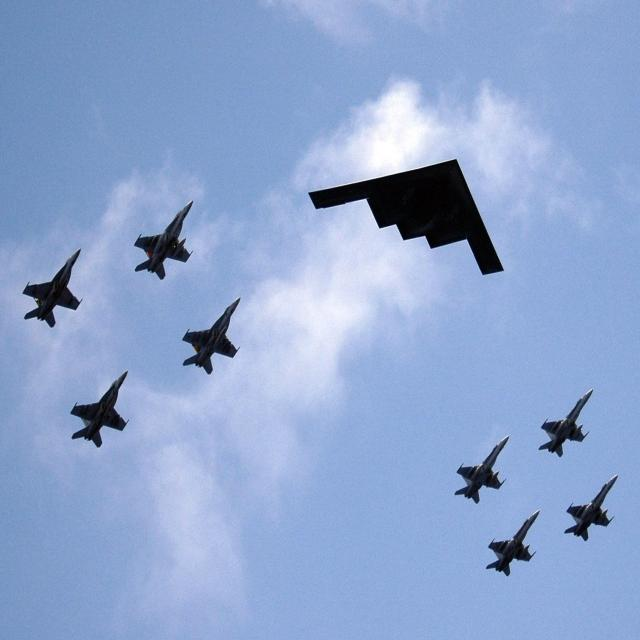MIL_Plane: (359, 17, 428, 136), (22, 247, 83, 328), (134, 200, 194, 280), (74, 370, 134, 448), (182, 297, 241, 375), (538, 388, 594, 458), (454, 434, 510, 504), (486, 508, 541, 576), (564, 474, 619, 542)
